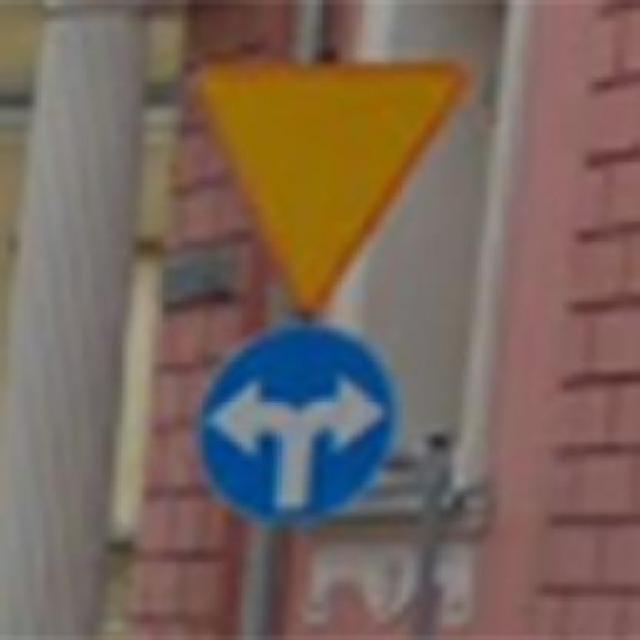Ustap pierwszenstwa: (181, 57, 482, 328)
